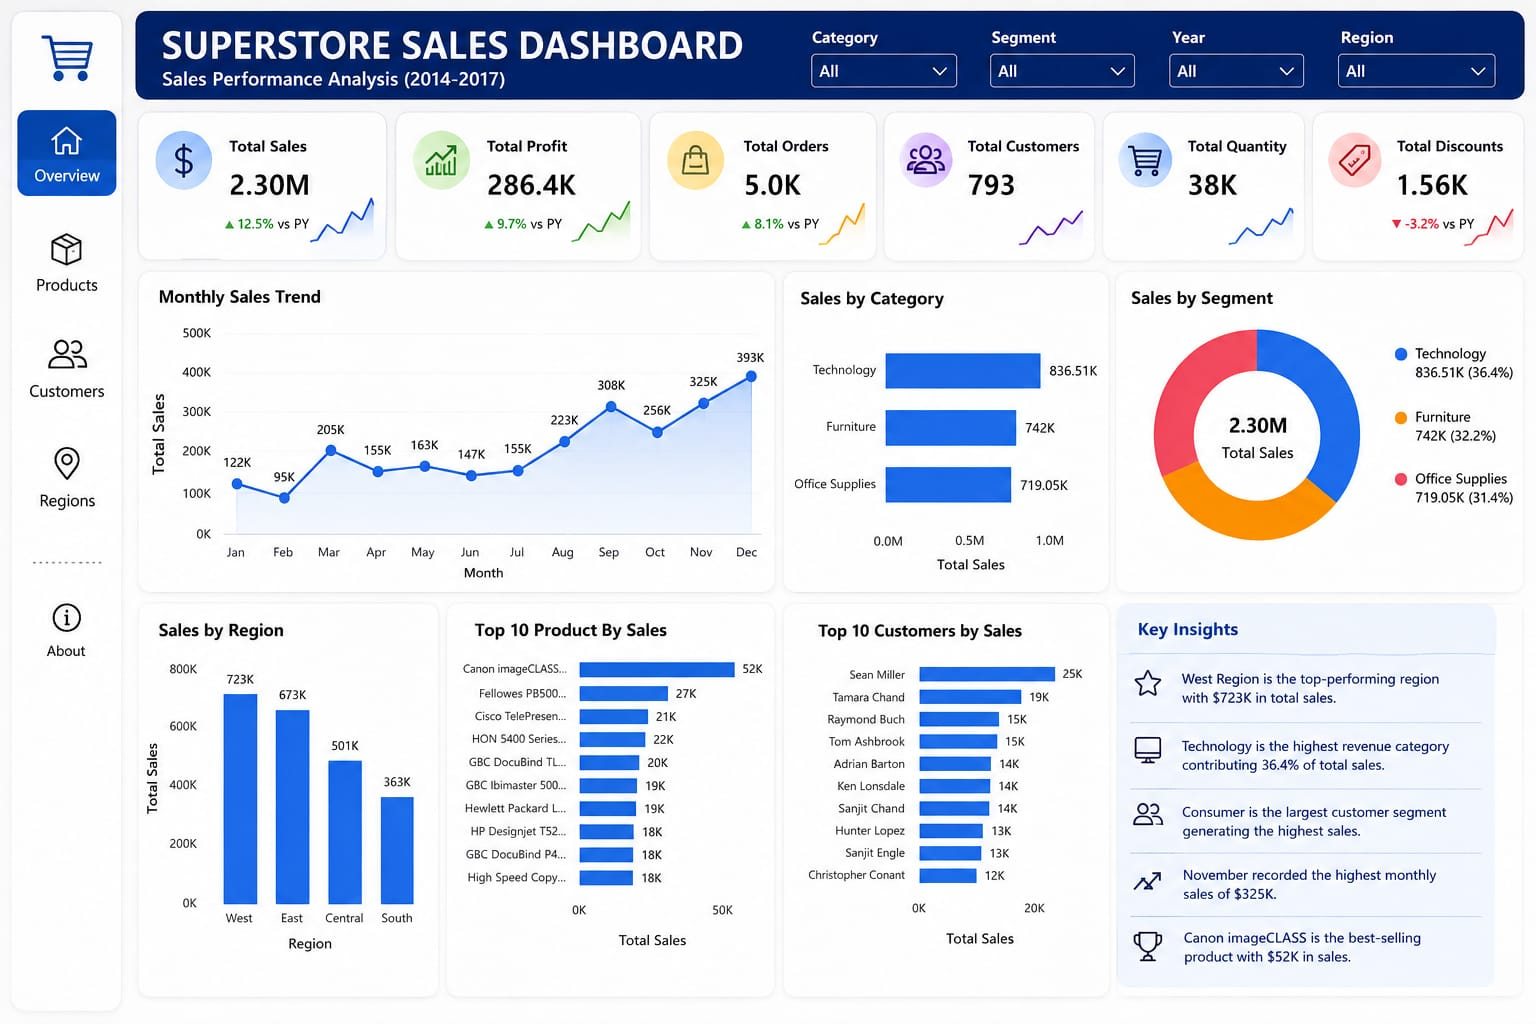

The page's visual inventory and layout, read from the dashboard file:
{"tool":"powerbi","page":{"name":"Page 1","canvas":[1280,720],"ordinal":0},"visuals":[{"type":"cardVisual","title":"  Total Orders","fields":{"Data":["Sales_Data.Total Orders"]},"box":[458.8,89.5,180,90],"z":0},{"type":"cardVisual","title":"  Total Customers","fields":{"Data":["Sales_Data.Total Customers"]},"box":[662.2,89.5,180,90],"z":2000},{"type":"cardVisual","title":"  Total Quantity","fields":{"Data":["Sales_Data.Total Quantity"]},"box":[875.8,89.5,180,90],"z":3000},{"type":"cardVisual","title":"  Total Discounts","fields":{"Data":["Sales_Data.Total Discount"]},"box":[1084.7,89.3,180,90],"z":4000},{"type":"cardVisual","title":"  Total Profit","fields":{"Data":["Sales_Data.Total Profit"]},"box":[243.8,89.5,190,90],"z":5000},{"type":"cardVisual","title":"  Total Sales","fields":{"Data":["Sales_Data.Total Sales"]},"box":[36.1,89.5,180,90],"z":6000},{"type":"lineChart","title":"Monthly Sales Trend","fields":{"Category":["Sales_Data.Month No"],"Y":["Sales_Data.Total Sales"]},"box":[11.5,189,542.5,197.7],"z":8000},{"type":"clusteredBarChart","title":" Sales by Category","fields":{"Category":["Sales_Data.Category"],"Y":["Sales_Data.Total Sales"]},"box":[571.3,189,314.5,199.1],"z":9000},{"type":"donutChart","title":" Sales by Segment","fields":{"Category":["Sales_Data.Category"],"Y":["Sales_Data.Total Sales"]},"box":[903.7,189.5,362,198.1],"z":10000},{"type":"clusteredColumnChart","title":" Sales by Region","fields":{"Category":["Sales_Data.Region"],"Y":["Sales_Data.Total Sales"]},"box":[11,407.2,272.7,304.5],"z":11000},{"type":"clusteredBarChart","title":"Top 10 Product By Sales","fields":{"Category":["Sales_Data.Product Name"],"Y":["Sales_Data.Total Sales"]},"box":[294.3,408.3,334.7,311.6],"z":12000},{"type":"clusteredBarChart","title":"Top 10 Customers by Sales","fields":{"Category":["Sales_Data.Customer Name"],"Y":["Sales_Data.Total Sales"]},"box":[640.6,408.3,316,311.6],"z":13000},{"type":"textbox","box":[965.2,406.9,310,308],"z":14000},{"type":"textbox","box":[11.5,0,1253.8,77],"z":14003},{"type":"slicer","fields":{"Values":["Sales_Data.Category"]},"box":[753.1,7.2,120,70.7],"z":14004},{"type":"slicer","fields":{"Values":["Sales_Data.Segment"]},"box":[872.9,7.2,120,70.7],"z":14005},{"type":"slicer","fields":{"Values":["Sales_Data.Year"]},"box":[1004.2,7.2,120,70.7],"z":14006},{"type":"slicer","fields":{"Values":["Sales_Data.Region"]},"box":[1132.6,7.2,120,70.7],"z":14007},{"type":"image","box":[640.6,106.8,55,55],"z":14008},{"type":"image","box":[216.4,106.8,55,55],"z":14009},{"type":"image","box":[11.5,106.8,55,55],"z":14010},{"type":"image","box":[441.5,106.8,55,55],"z":14011},{"type":"image","box":[858.4,106.8,55,55],"z":14012},{"type":"image","box":[1064.8,106.8,55,55],"z":14013},{"type":"image","box":[965.2,432.8,20,20],"z":14015},{"type":"image","box":[965.2,484.8,20,20],"z":14016},{"type":"image","box":[965.2,542.5,20,20],"z":14017},{"type":"image","box":[965.2,598.7,20,20],"z":14018},{"type":"image","box":[968.1,649.2,20,20],"z":14019},{"type":"image","box":[1004.2,408.3,25,25],"z":14020},{"type":"image","box":[30.3,4.3,70,70],"z":14021}]}

Visuals, with their boxes on the page's 1280x720 design canvas (x1, y1, x2, y2). These are canvas units, not pixel positions in the 1536x1024 screenshot, which may show the page scaled, cropped or inside an application window:
"  Total Orders" cardVisual: 459/90/639/180
"  Total Customers" cardVisual: 662/90/842/180
"  Total Quantity" cardVisual: 876/90/1056/180
"  Total Discounts" cardVisual: 1085/89/1265/179
"  Total Profit" cardVisual: 244/90/434/180
"  Total Sales" cardVisual: 36/90/216/180
"Monthly Sales Trend" lineChart: 12/189/554/387
" Sales by Category" clusteredBarChart: 571/189/886/388
" Sales by Segment" donutChart: 904/190/1266/388
" Sales by Region" clusteredColumnChart: 11/407/284/712
"Top 10 Product By Sales" clusteredBarChart: 294/408/629/720
"Top 10 Customers by Sales" clusteredBarChart: 641/408/957/720
textbox: 965/407/1275/715
textbox: 12/0/1265/77
slicer - Sales_Data.Category: 753/7/873/78
slicer - Sales_Data.Segment: 873/7/993/78
slicer - Sales_Data.Year: 1004/7/1124/78
slicer - Sales_Data.Region: 1133/7/1253/78
image: 641/107/696/162
image: 216/107/271/162
image: 12/107/66/162
image: 442/107/496/162
image: 858/107/913/162
image: 1065/107/1120/162
image: 965/433/985/453
image: 965/485/985/505
image: 965/542/985/562
image: 965/599/985/619
image: 968/649/988/669
image: 1004/408/1029/433
image: 30/4/100/74
